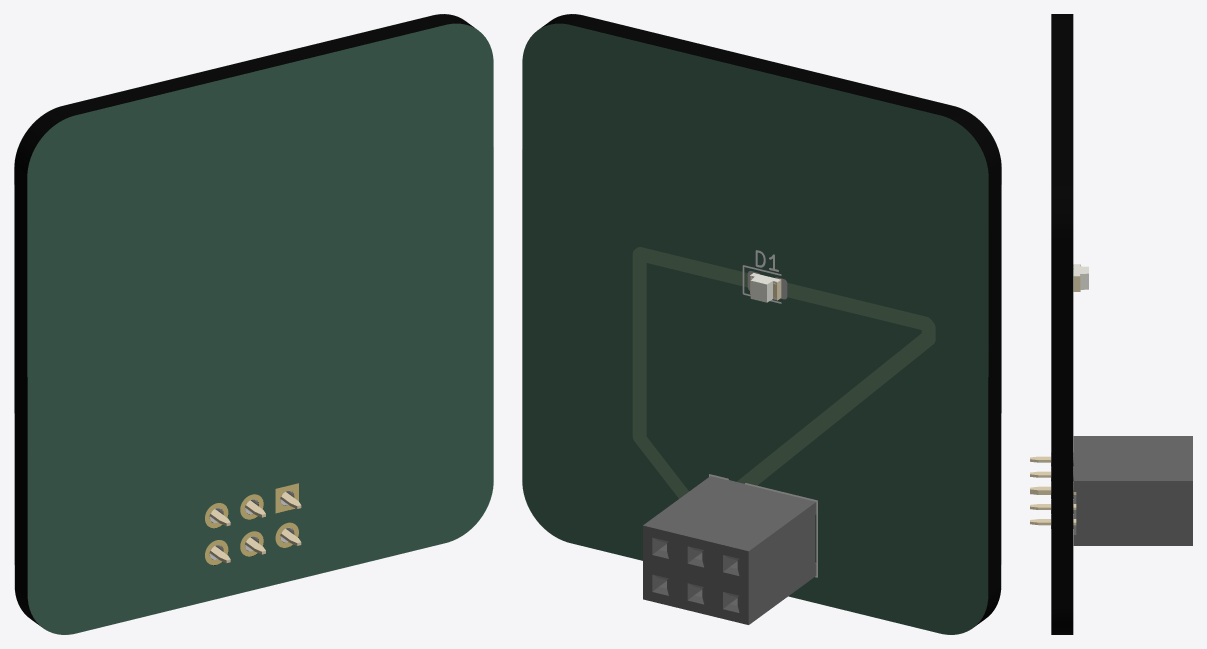
The model's file is board.glb.
3 views of the same model, side by side, from view 1: azimuth 30°, elevation 25°; view 2: azimuth 150°, elevation 25°; view 3: azimuth 270°, elevation 25° (orthographic). The views are drawn at different scales.
Visible parts, largest first — view 1: Shape_IndexedFaceSet.222, Shape_IndexedFaceSet.228, Shape_IndexedFaceSet.226; view 2: Shape_IndexedFaceSet.225, Shape_IndexedFaceSet.222, Shape_IndexedFaceSet.223, Shape_IndexedFaceSet.050, Shape_IndexedFaceSet.054, Shape_IndexedFaceSet.051, Shape_IndexedFaceSet.230; view 3: Shape_IndexedFaceSet.222, Shape_IndexedFaceSet.052, Shape_IndexedFaceSet.050.
Boxes of the visible parts, x1,y1,x2,y2 form: Shape_IndexedFaceSet.222: (14,14,492,634); Shape_IndexedFaceSet.228: (27,23,493,634); Shape_IndexedFaceSet.226: (205,483,298,565); Shape_IndexedFaceSet.225: (522,23,988,634); Shape_IndexedFaceSet.222: (523,14,1001,634); Shape_IndexedFaceSet.223: (633,247,934,497); Shape_IndexedFaceSet.050: (643,476,815,551); Shape_IndexedFaceSet.054: (643,525,748,624); Shape_IndexedFaceSet.051: (748,502,816,624); Shape_IndexedFaceSet.230: (709,250,817,577); Shape_IndexedFaceSet.222: (1051,14,1073,634); Shape_IndexedFaceSet.052: (1073,481,1192,545); Shape_IndexedFaceSet.050: (1073,436,1192,480).
Size of the model in its own units: 33.56 by 35.65 by 11.6.
